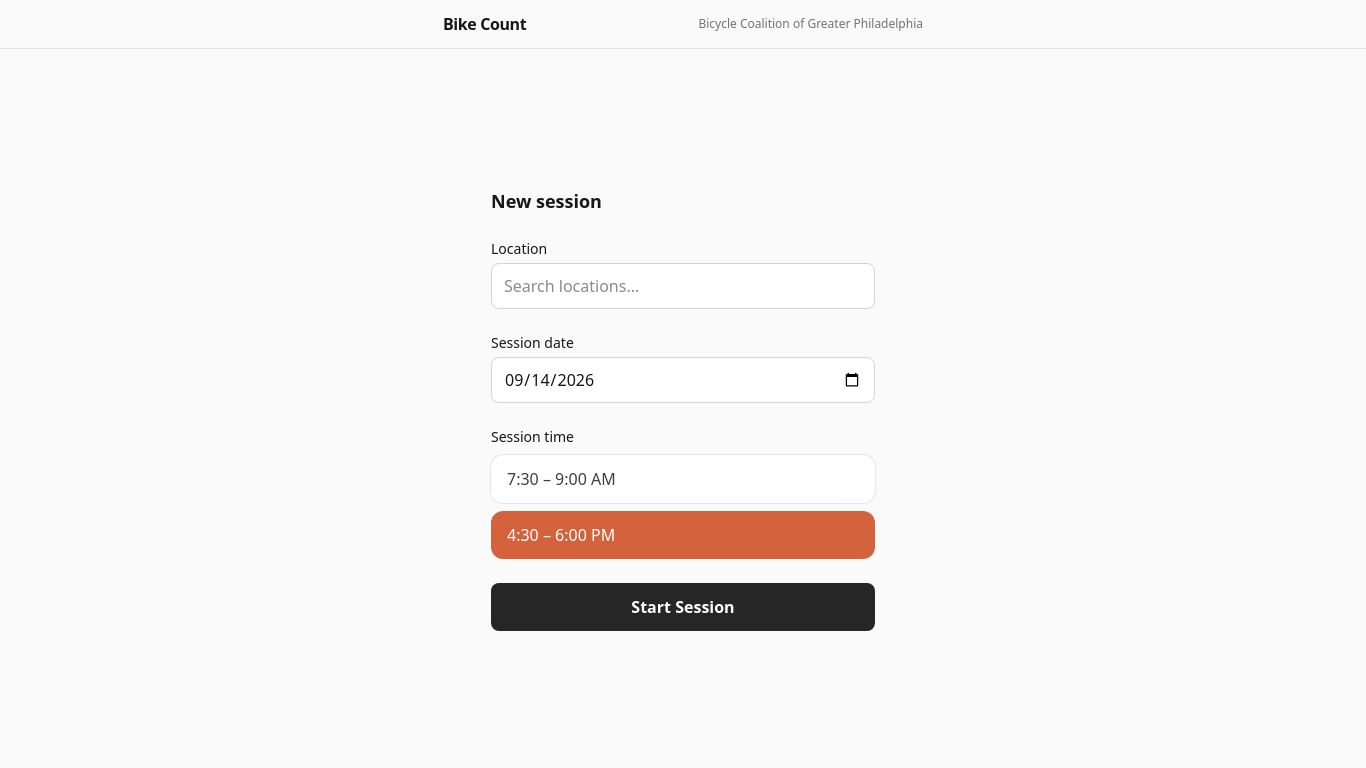
Test: App › starts a counting session from the home screen
Step 1. Type "Walnut" into the field labelled "Location" → (683, 286), box x1=491 y1=262 x2=875 y2=308
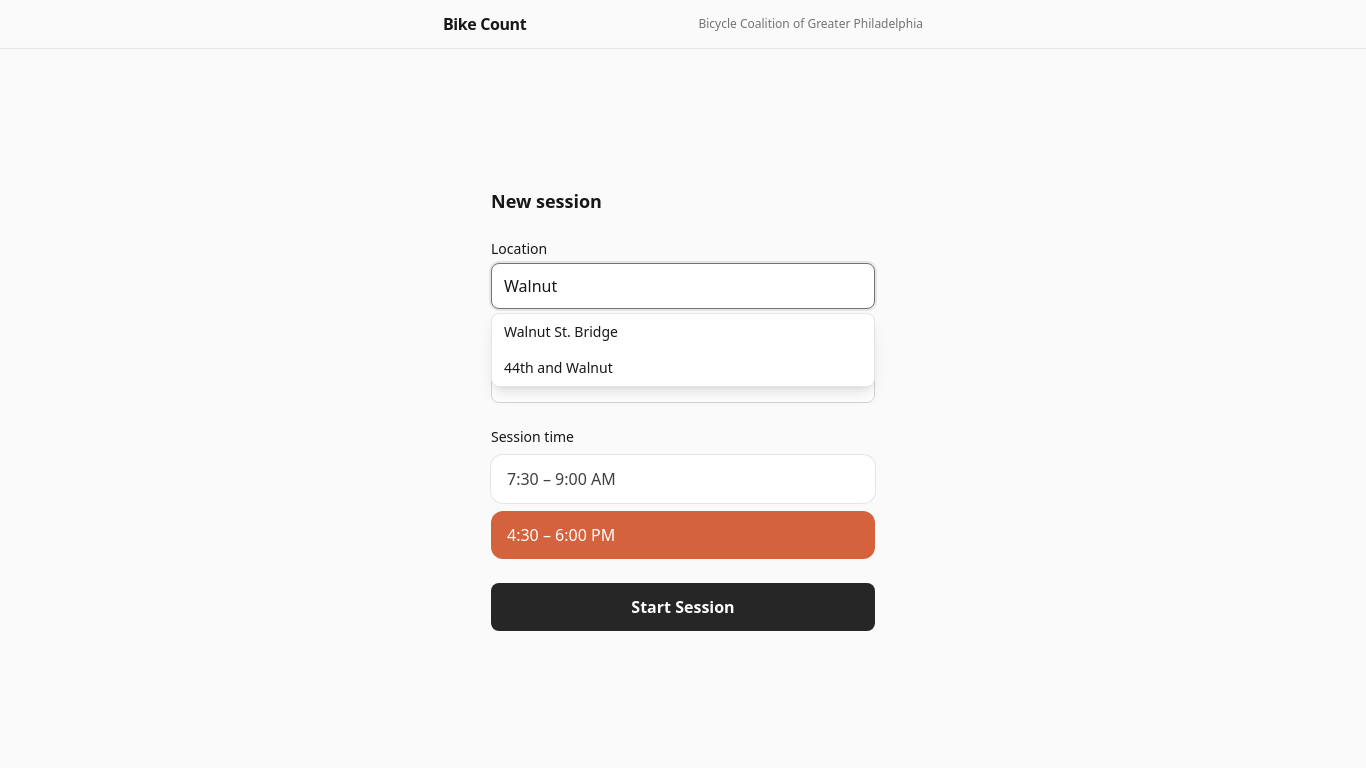
Step 2. Click the button "Walnut St. Bridge" → (561, 331), box x1=492 y1=314 x2=874 y2=350
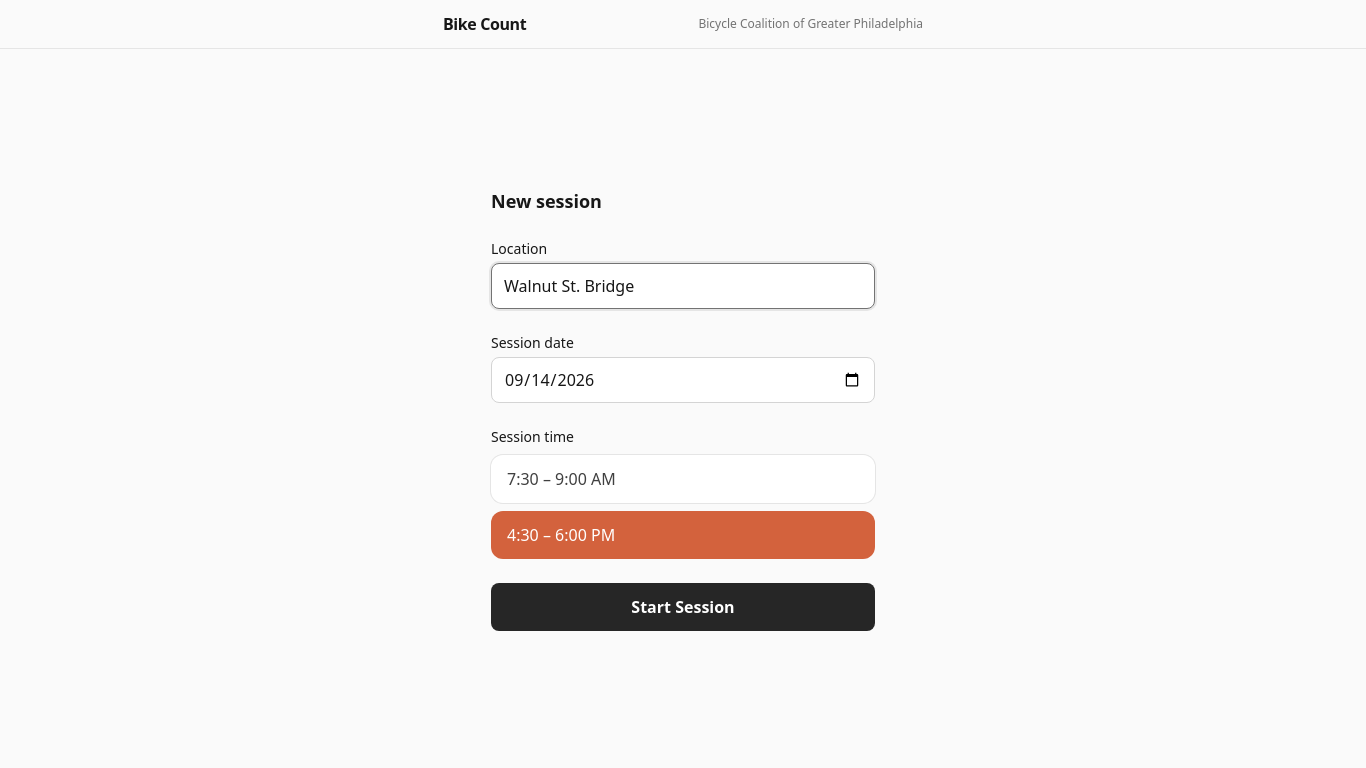
Step 3. Click the button "Start Session" → (683, 606), box x1=491 y1=582 x2=875 y2=630
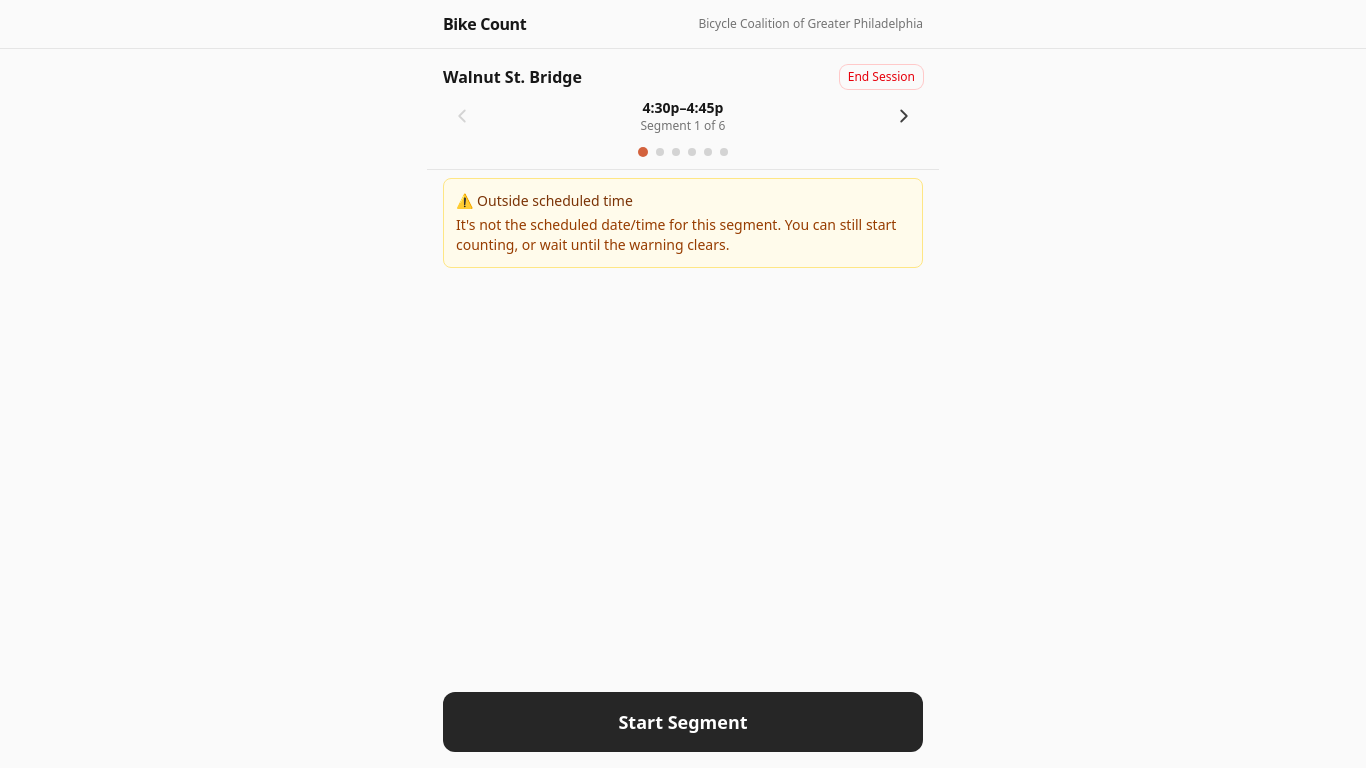
Result: the heading "Walnut St. Bridge" is shown at x1=443 y1=65 x2=582 y2=89
Result: the button "Start Segment" is shown at x1=443 y1=692 x2=923 y2=752
